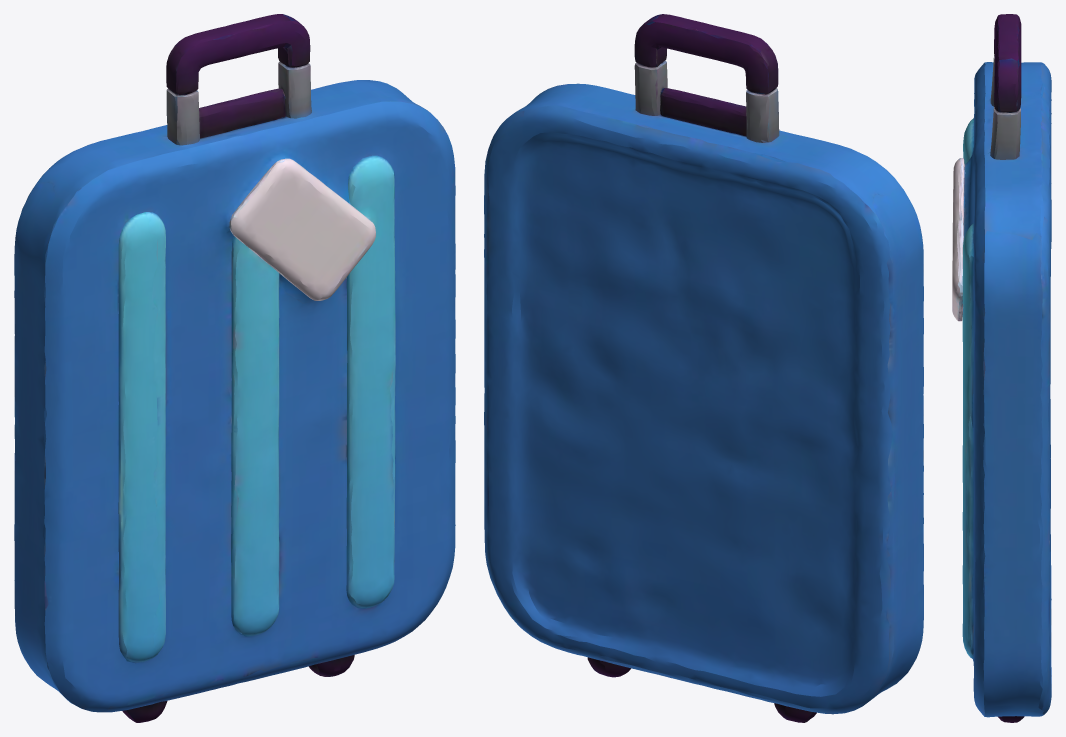
Rendered from suitcase.glb.
3 renders of one model, left to right at view 1: azimuth 30°, elevation 25°; view 2: azimuth 150°, elevation 25°; view 3: azimuth 270°, elevation 25°, orthographic. The views are drawn at different scales.
Visible parts, largest first — view 1: Mesh; view 2: Mesh; view 3: Mesh.
Part boxes in pixels (left/top/right/bottom): Mesh: left=14, top=14, right=455, bottom=722; Mesh: left=484, top=14, right=923, bottom=722; Mesh: left=952, top=14, right=1051, bottom=722.
Bounding box in the file's own units: 0.6412 × 1 × 0.1409.
Materials: 1 (1 with a texture image).
